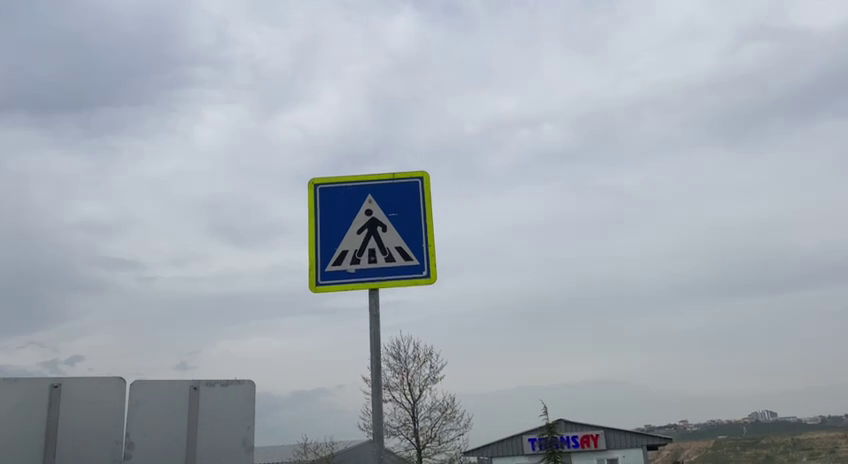pedestrianCrossing: (304, 168, 440, 294)
